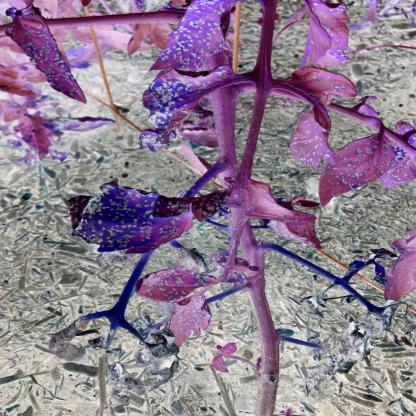tomato septoria leaf spot: (42, 184, 248, 258), (136, 68, 241, 154), (145, 3, 256, 73), (5, 11, 88, 103), (310, 132, 402, 210), (240, 176, 320, 252), (162, 293, 232, 350), (120, 264, 217, 304), (284, 103, 340, 169)
